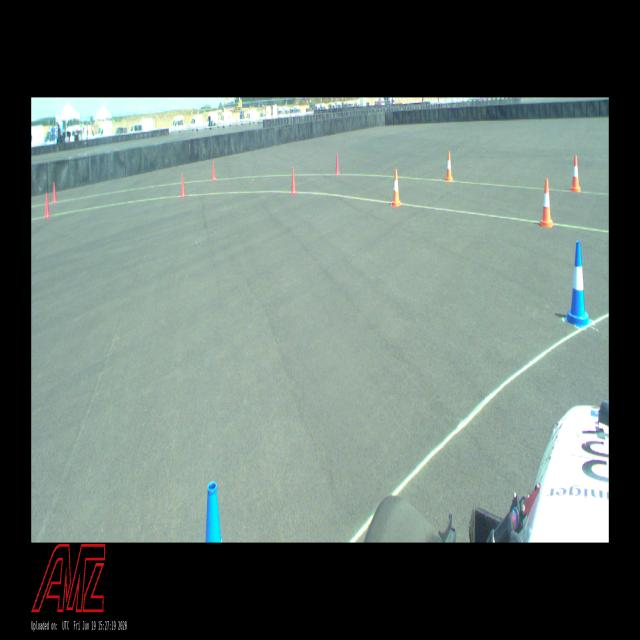blue_cone: (564, 240, 592, 328)
orange_cone: (540, 179, 553, 227), (570, 155, 581, 192), (391, 170, 402, 206), (445, 152, 453, 182)
unknown_cone: (290, 166, 296, 194), (44, 191, 50, 218), (180, 173, 186, 198), (335, 152, 340, 175), (52, 182, 57, 203), (211, 160, 216, 180)
